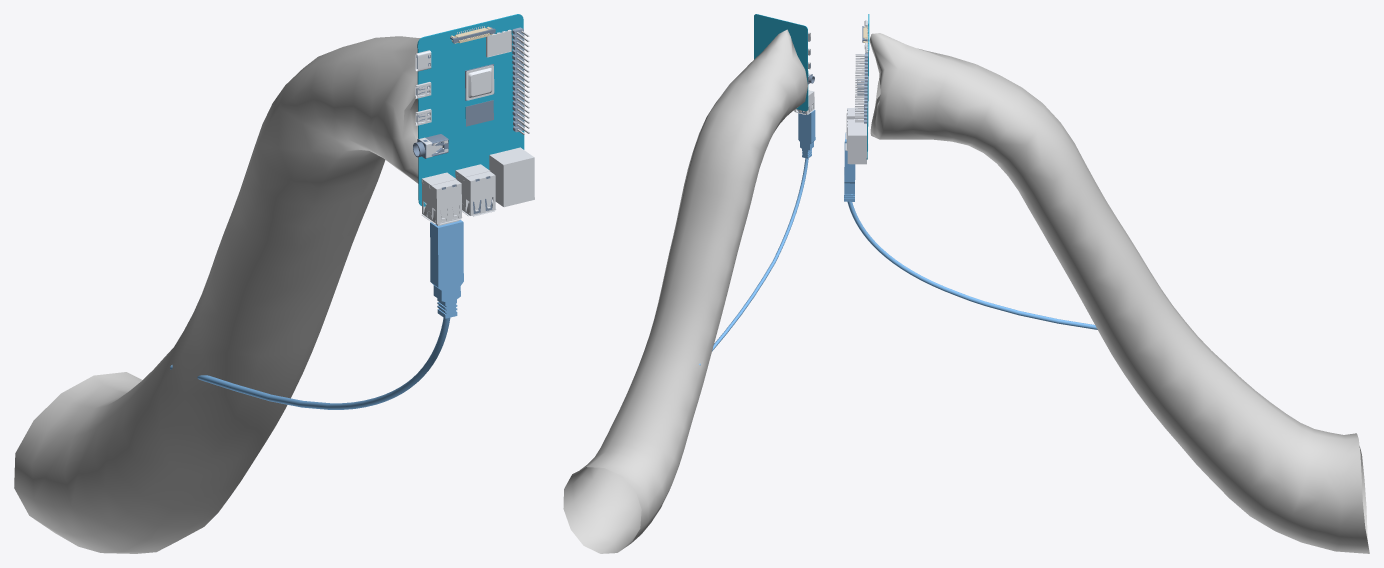
File: circuit_min.glb
3 views of the same model, side by side, from view 1: azimuth 30°, elevation 25°; view 2: azimuth 150°, elevation 25°; view 3: azimuth 270°, elevation 25° (orthographic). The views are drawn at different scales.
Parts seen in each view (by area): view 1: el, plate, Symmetry.1, Symmetry (×2), Cube.4, cable, Cloner.2, cpu, Cloner; view 2: el, plate, cable, Symmetry.1; view 3: el, cable, Cube.4, Cloner.
Part boxes in pixels (x1=…): el: x1=14, y1=36, x2=420, y2=553; plate: x1=417, y1=14, x2=524, y2=206; Symmetry.1: x1=430, y1=220, x2=463, y2=318; Symmetry (×2): x1=421, y1=171, x2=496, y2=224; Cube.4: x1=489, y1=147, x2=534, y2=207; cable: x1=170, y1=317, x2=450, y2=409; Cloner.2: x1=512, y1=27, x2=524, y2=132; cpu: x1=466, y1=65, x2=494, y2=100; Cloner: x1=516, y1=31, x2=529, y2=134; el: x1=563, y1=29, x2=807, y2=553; plate: x1=754, y1=14, x2=808, y2=111; cable: x1=699, y1=158, x2=808, y2=365; Symmetry.1: x1=798, y1=110, x2=815, y2=158; el: x1=869, y1=33, x2=1369, y2=553; cable: x1=847, y1=201, x2=1097, y2=329; Cube.4: x1=847, y1=125, x2=866, y2=164; Cloner: x1=855, y1=54, x2=864, y2=122.
Bounding box in the file's own units: 24.32 × 119 × 108.
